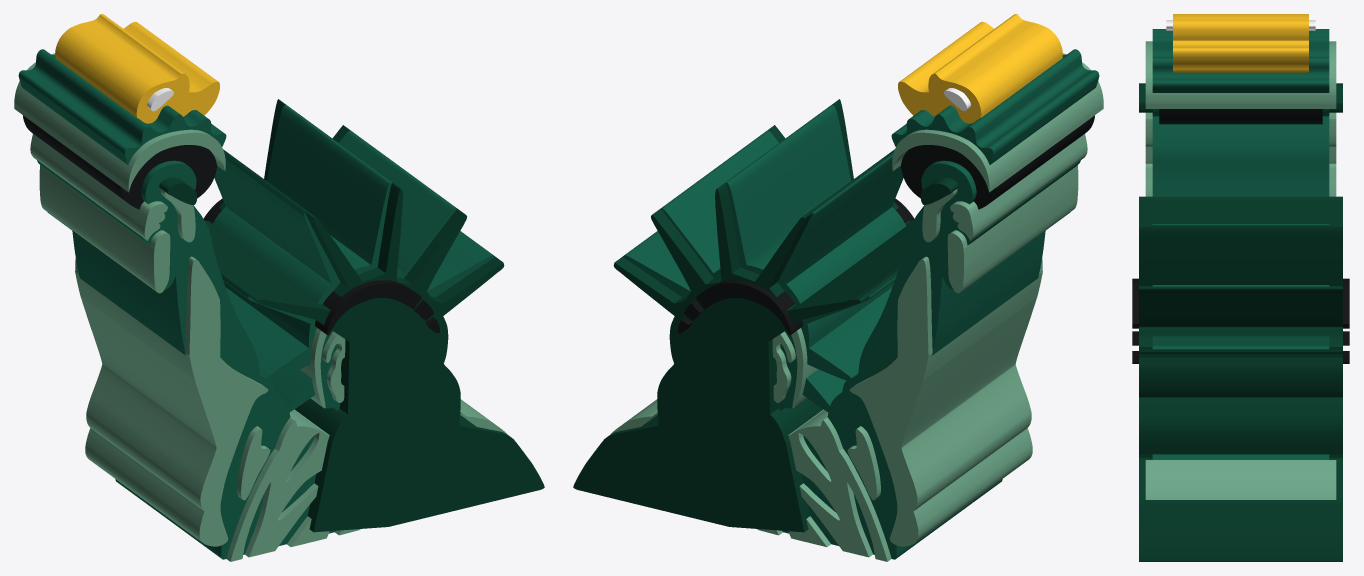
3 renders of one model, left to right at view 1: azimuth 30°, elevation 25°; view 2: azimuth 150°, elevation 25°; view 3: azimuth 270°, elevation 25°, orthographic. The views are drawn at different scales.
Parts seen in each view (by area): view 1: U+1F5FD_layer05_obj01, U+1F5FD_layer03_obj03, U+1F5FD_layer04_obj06, U+1F5FD_layer00_obj00, U+1F5FD_layer04_obj02, U+1F5FD_layer03_obj04, U+1F5FD_layer04_obj11, U+1F5FD_layer04_obj04, U+1F5FD_layer04_obj05, U+1F5FD_layer02_obj00, U+1F5FD_layer03_obj05, U+1F5FD_layer06_obj01 (+7 smaller); view 2: U+1F5FD_layer05_obj01, U+1F5FD_layer03_obj03, U+1F5FD_layer04_obj06, U+1F5FD_layer00_obj00, U+1F5FD_layer04_obj02, U+1F5FD_layer03_obj04, U+1F5FD_layer04_obj11, U+1F5FD_layer04_obj04, U+1F5FD_layer04_obj05, U+1F5FD_layer02_obj00, U+1F5FD_layer03_obj05, U+1F5FD_layer06_obj01 (+7 smaller); view 3: U+1F5FD_layer05_obj01, U+1F5FD_layer03_obj03, U+1F5FD_layer00_obj00, U+1F5FD_layer04_obj00, U+1F5FD_layer03_obj04, U+1F5FD_layer04_obj04, U+1F5FD_layer02_obj00, U+1F5FD_layer03_obj02, U+1F5FD_layer06_obj01, U+1F5FD_layer04_obj01, U+1F5FD_layer04_obj06, U+1F5FD_layer05_obj00.
Part boxes in pixels (x1,y1,x2,y2): U+1F5FD_layer05_obj01: [205, 99, 544, 532]; U+1F5FD_layer03_obj03: [37, 105, 461, 559]; U+1F5FD_layer04_obj06: [75, 256, 268, 546]; U+1F5FD_layer00_obj00: [55, 14, 219, 123]; U+1F5FD_layer04_obj02: [226, 409, 360, 561]; U+1F5FD_layer03_obj04: [18, 49, 226, 164]; U+1F5FD_layer04_obj11: [39, 165, 170, 293]; U+1F5FD_layer04_obj04: [14, 53, 225, 192]; U+1F5FD_layer04_obj05: [30, 134, 167, 240]; U+1F5FD_layer02_obj00: [23, 115, 216, 209]; U+1F5FD_layer03_obj05: [225, 287, 310, 381]; U+1F5FD_layer06_obj01: [203, 198, 421, 335]; U+1F5FD_layer05_obj01: [573, 99, 912, 532]; U+1F5FD_layer03_obj03: [656, 105, 1080, 559]; U+1F5FD_layer04_obj06: [849, 256, 1042, 546]; U+1F5FD_layer00_obj00: [898, 14, 1062, 123]; U+1F5FD_layer04_obj02: [757, 409, 891, 561]; U+1F5FD_layer03_obj04: [891, 49, 1099, 164]; U+1F5FD_layer04_obj11: [947, 165, 1078, 293]; U+1F5FD_layer04_obj04: [892, 53, 1103, 192]; U+1F5FD_layer04_obj05: [950, 134, 1087, 240]; U+1F5FD_layer02_obj00: [901, 115, 1094, 209]; U+1F5FD_layer03_obj05: [807, 287, 892, 381]; U+1F5FD_layer06_obj01: [696, 198, 914, 335]; U+1F5FD_layer05_obj01: [1139, 196, 1342, 561]; U+1F5FD_layer03_obj03: [1152, 109, 1329, 459]; U+1F5FD_layer00_obj00: [1173, 14, 1308, 72]; U+1F5FD_layer04_obj00: [1145, 460, 1336, 499]; U+1F5FD_layer03_obj04: [1152, 29, 1329, 92]; U+1F5FD_layer04_obj04: [1145, 41, 1336, 108]; U+1F5FD_layer02_obj00: [1159, 109, 1322, 124]; U+1F5FD_layer03_obj02: [1152, 336, 1329, 349]; U+1F5FD_layer06_obj01: [1132, 278, 1349, 328]; U+1F5FD_layer04_obj01: [1145, 112, 1336, 146]; U+1F5FD_layer04_obj06: [1145, 163, 1336, 196]; U+1F5FD_layer05_obj00: [1139, 83, 1342, 112].
Size of the model in its own units: 0.2914 by 0.327 by 0.16.
